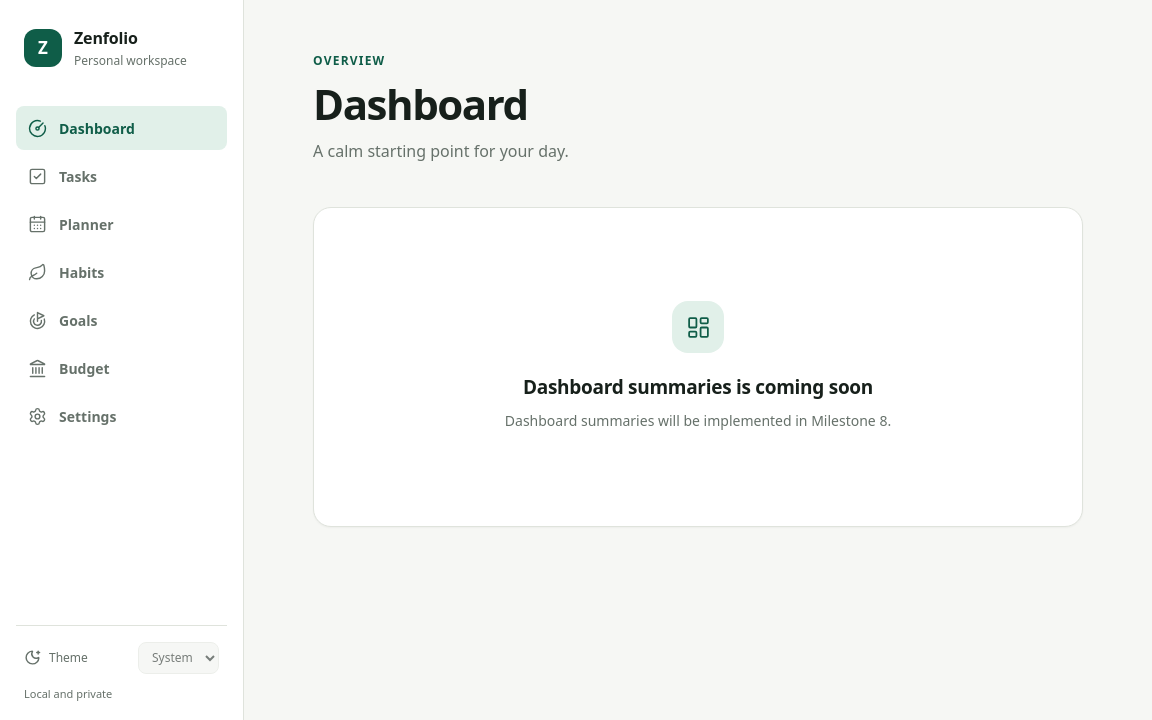
it: Zenfolio application shell › navigates with hashes and updates the active destination
What coordinates should you click on to do the following:
click the link "Tasks"
I would click on:
 (62, 176)
Its box is [28,166,97,186].
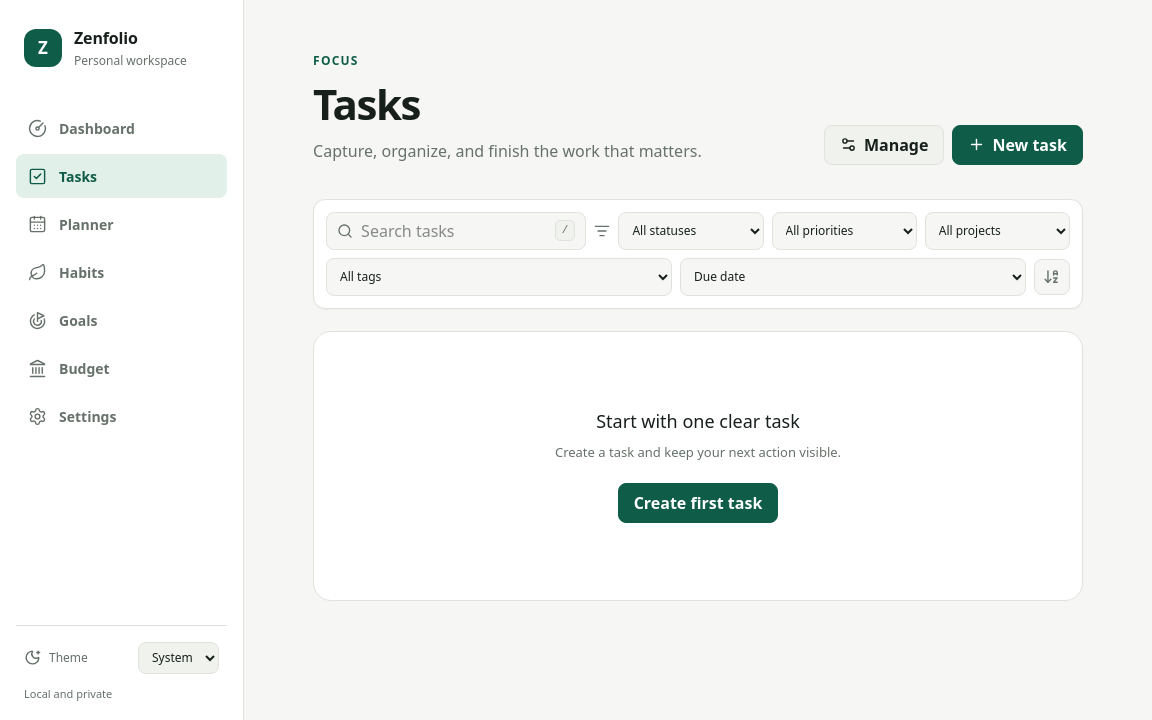
Expected: the heading "Tasks" is shown, [313,75,420,132]
